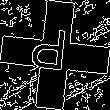P_S: (34, 28, 76, 82)
